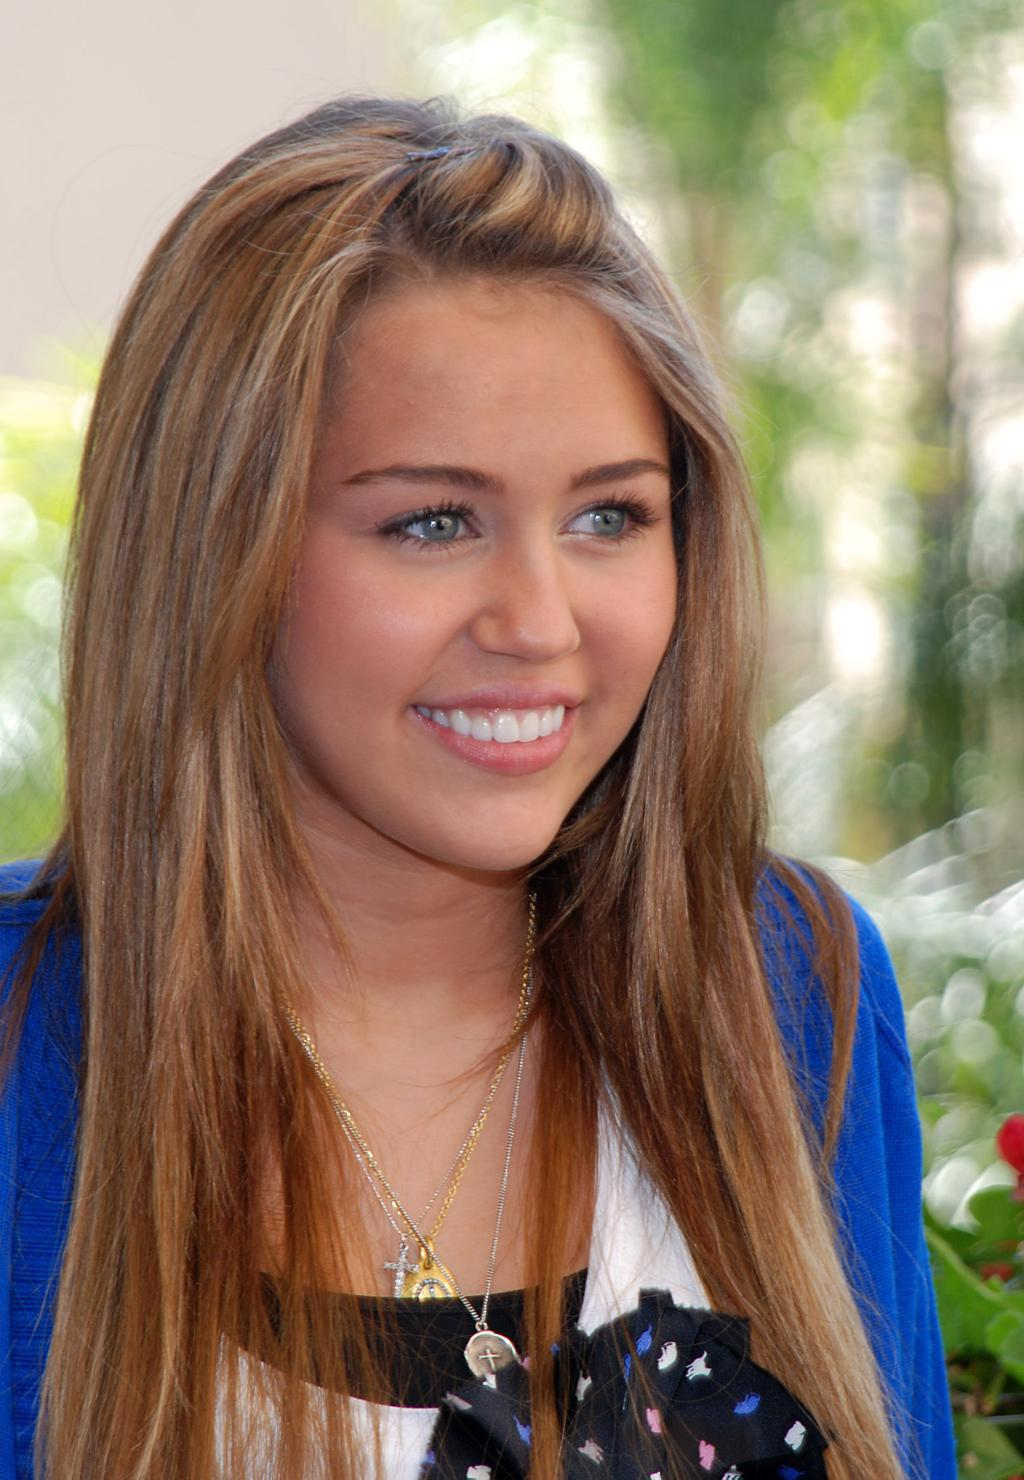face: (270, 267, 681, 874)
